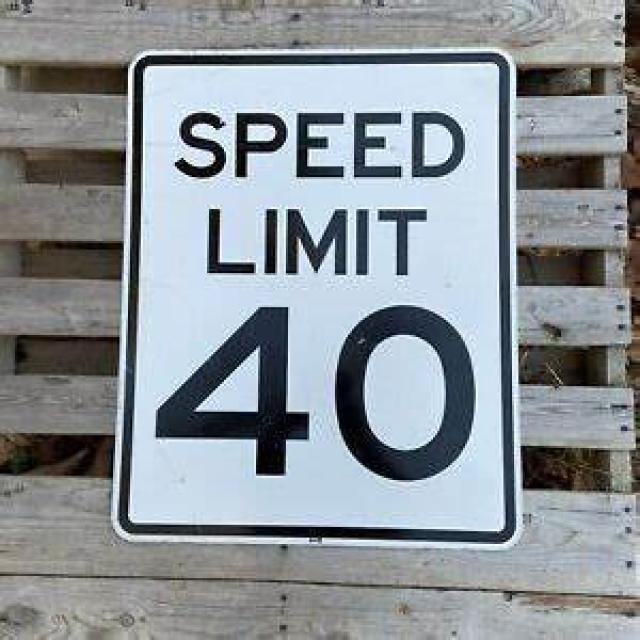speedLimit40: (126, 59, 520, 543)
